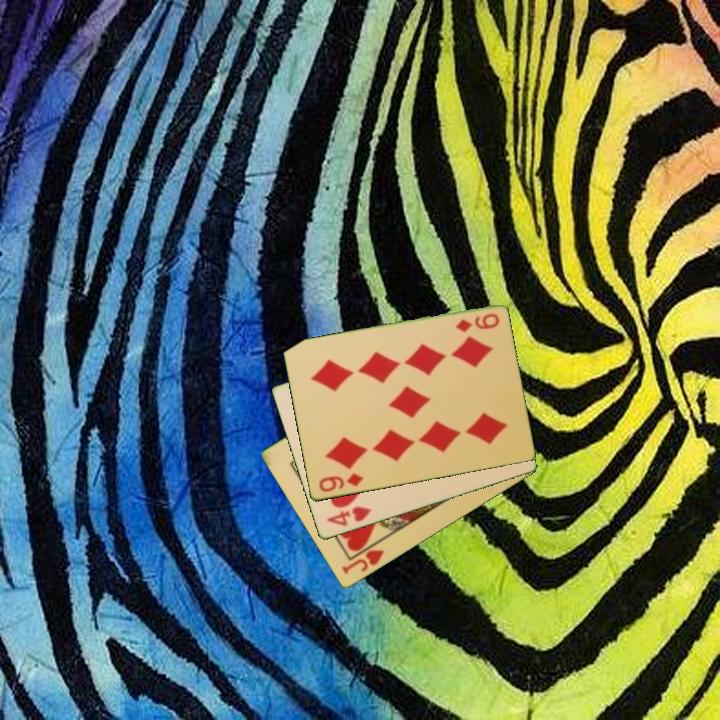4h: (323, 503, 374, 530)
9d: (452, 310, 502, 336), (315, 470, 366, 495)
Jh: (338, 536, 387, 577)
